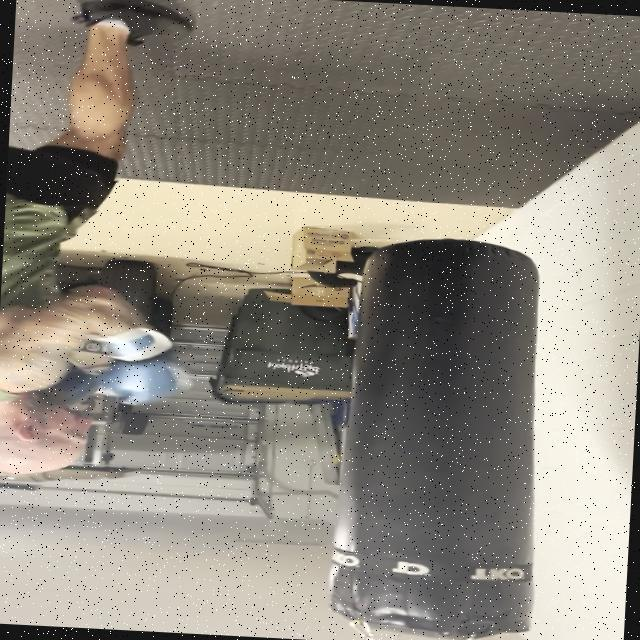bag: (314, 238, 554, 640)
no punch: (0, 266, 204, 500)
